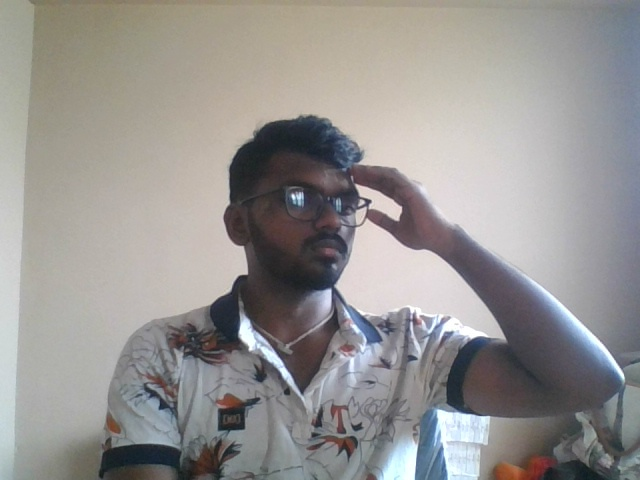Hello: (324, 142, 458, 293)
